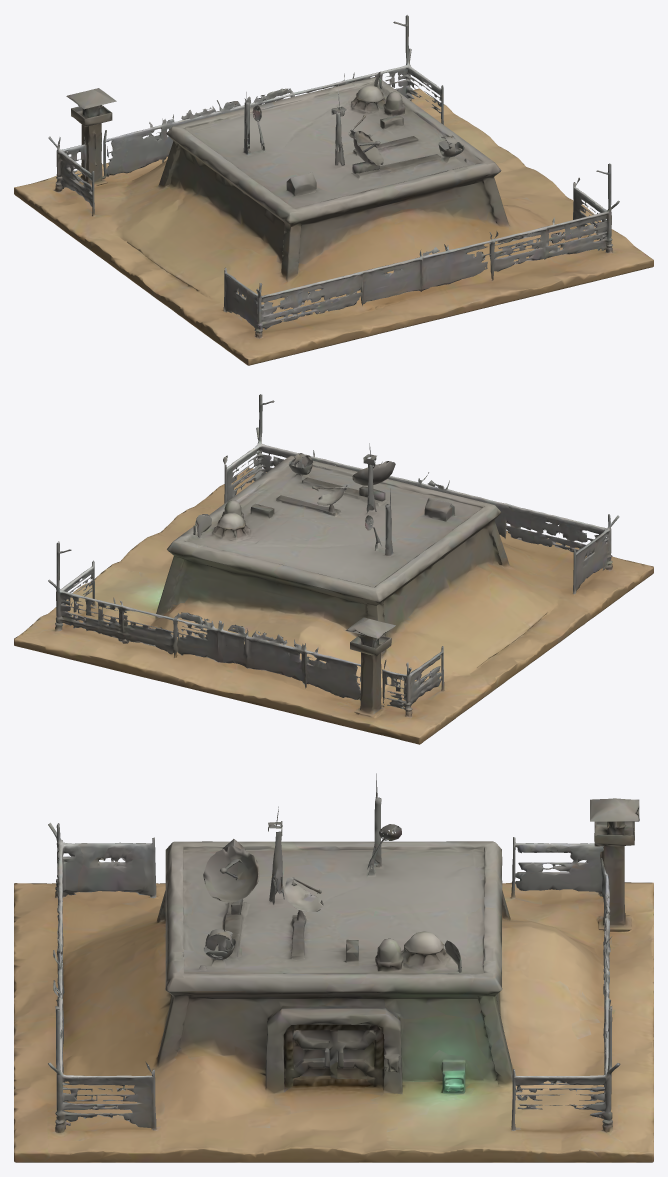
File: predio_area51.glb
3 views of the same model, one above another, from view 1: azimuth 30°, elevation 25°; view 2: azimuth 150°, elevation 25°; view 3: azimuth 270°, elevation 25° (orthographic). The views are drawn at different scales.
Visible parts, largest first — view 1: tripo_node_ca5ef19f-42ed-48e8-a6cd-42e66226c58f; view 2: tripo_node_ca5ef19f-42ed-48e8-a6cd-42e66226c58f; view 3: tripo_node_ca5ef19f-42ed-48e8-a6cd-42e66226c58f.
Boxes of the visible parts, x1,y1,x2,y2 form: tripo_node_ca5ef19f-42ed-48e8-a6cd-42e66226c58f: (14,15,653,365); tripo_node_ca5ef19f-42ed-48e8-a6cd-42e66226c58f: (14,394,653,744); tripo_node_ca5ef19f-42ed-48e8-a6cd-42e66226c58f: (14,773,653,1162).
Size of the model in its own units: 1 by 0.3902 by 1.
Materials: 1 (1 with a texture image).
